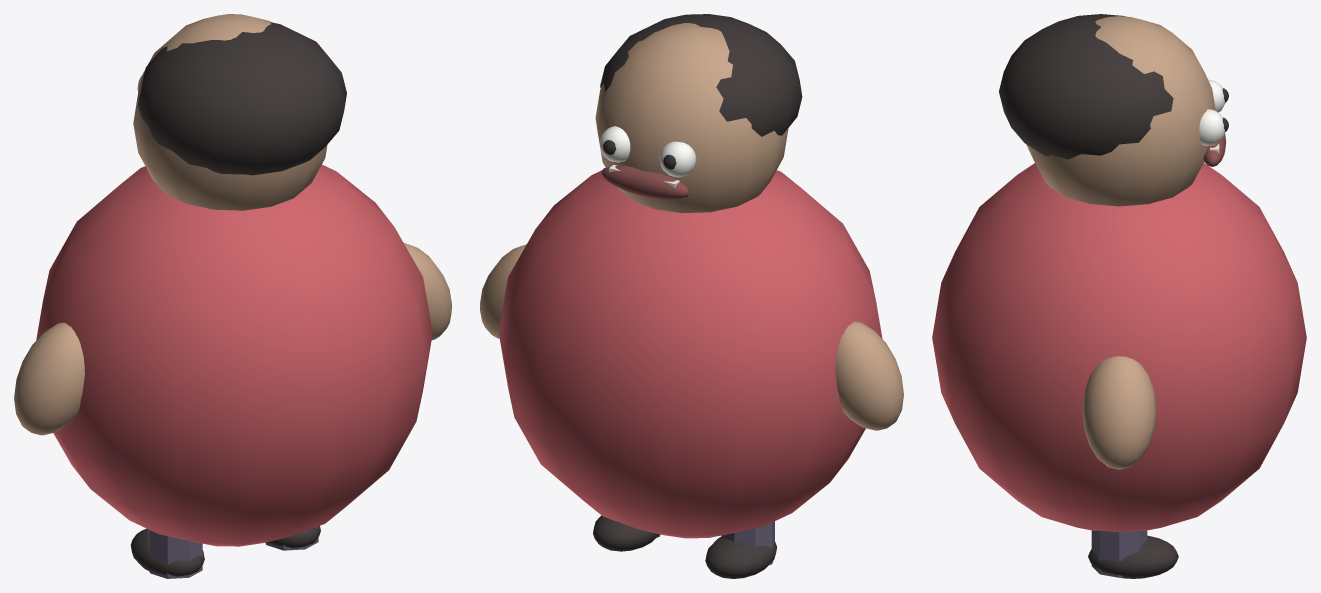
3 renders of one model, left to right at view 1: azimuth 30°, elevation 25°; view 2: azimuth 150°, elevation 25°; view 3: azimuth 270°, elevation 25°, orthographic. The views are drawn at different scales.
Parts seen in each view (by area): view 1: Torso, Head, ArmL, LegL, ArmR, LegR; view 2: Torso, Head, ArmL, LegL, ArmR, LegR; view 3: Torso, Head, ArmR, LegR.
Boxes of the visible parts, x1,y1,x2,y2 form: Torso: (36, 164, 432, 546); Head: (133, 14, 346, 210); ArmL: (14, 322, 84, 435); LegL: (130, 528, 204, 578); ArmR: (404, 243, 451, 340); LegR: (265, 526, 320, 550); Torso: (498, 170, 882, 538); Head: (595, 14, 802, 213); ArmL: (835, 321, 903, 430); LegL: (705, 521, 776, 578); ArmR: (480, 244, 526, 338); LegR: (593, 515, 660, 551); Torso: (932, 163, 1306, 532); Head: (999, 14, 1228, 206); ArmR: (1082, 356, 1156, 469); LegR: (1088, 530, 1178, 578).
Size of the model in its own units: 207 by 249 by 161.
